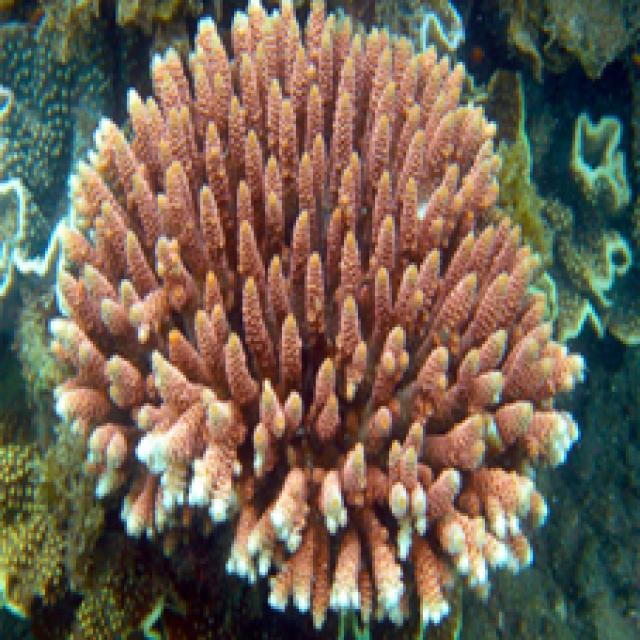Healthy: (52, 1, 582, 638), (1, 21, 102, 308), (1, 444, 97, 616), (542, 198, 638, 345), (497, 1, 638, 77), (63, 545, 176, 638), (571, 114, 630, 207)
